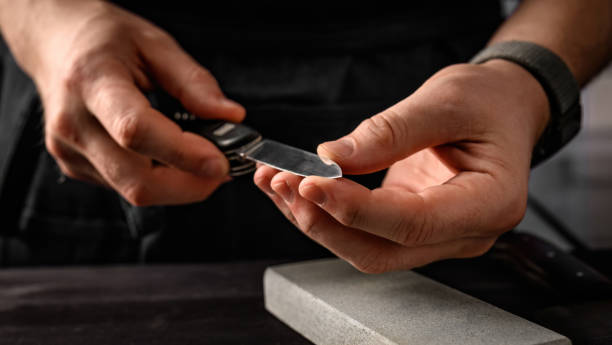knife: (158, 106, 343, 179)
